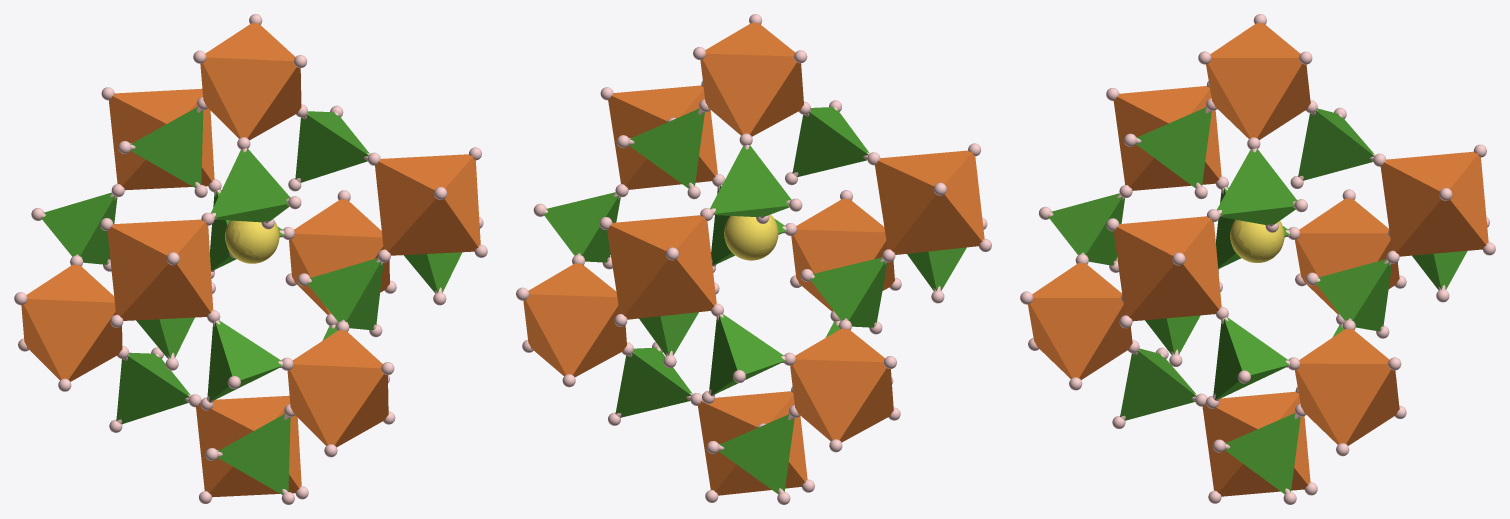
The model's file is NbV(PO4)3-triclinic-gnomea9b189292f-p2.glb.
3 views of the same model, side by side, from view 1: azimuth 30°, elevation 25°; view 2: azimuth 150°, elevation 25°; view 3: azimuth 270°, elevation 25° (orthographic).
Parts seen in each view (by area): view 1: POSCAR; view 2: POSCAR; view 3: POSCAR.
Boxes of the visible parts, box(x1,y1,x2,y2) form: POSCAR: box(14, 14, 487, 504); POSCAR: box(516, 14, 991, 504); POSCAR: box(1020, 14, 1495, 504).
Bounding box in the file's own units: 13.39 × 13.91 × 13.31.
